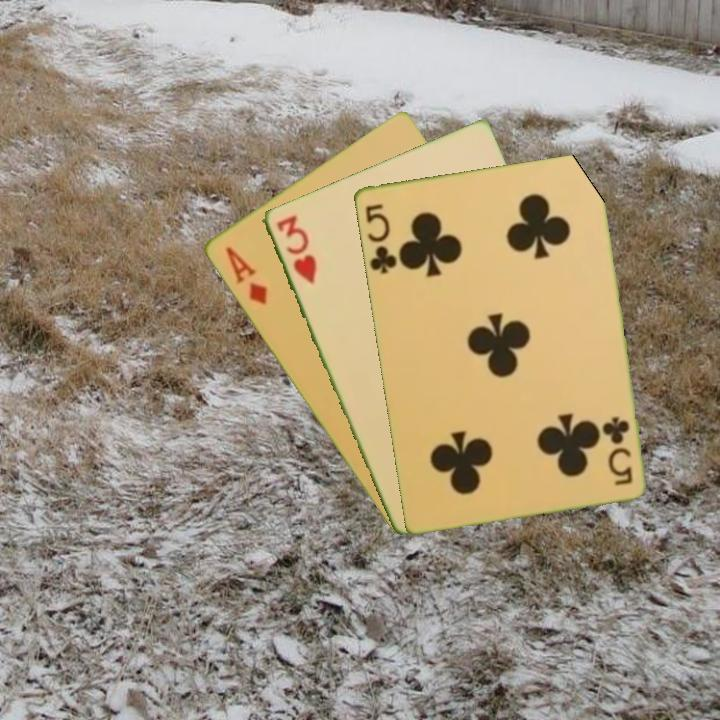3h: (272, 211, 319, 287)
5c: (361, 200, 399, 277), (600, 412, 635, 488)
Ad: (221, 242, 270, 307)
